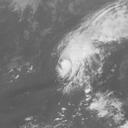cyclone: (55, 43, 93, 86)
